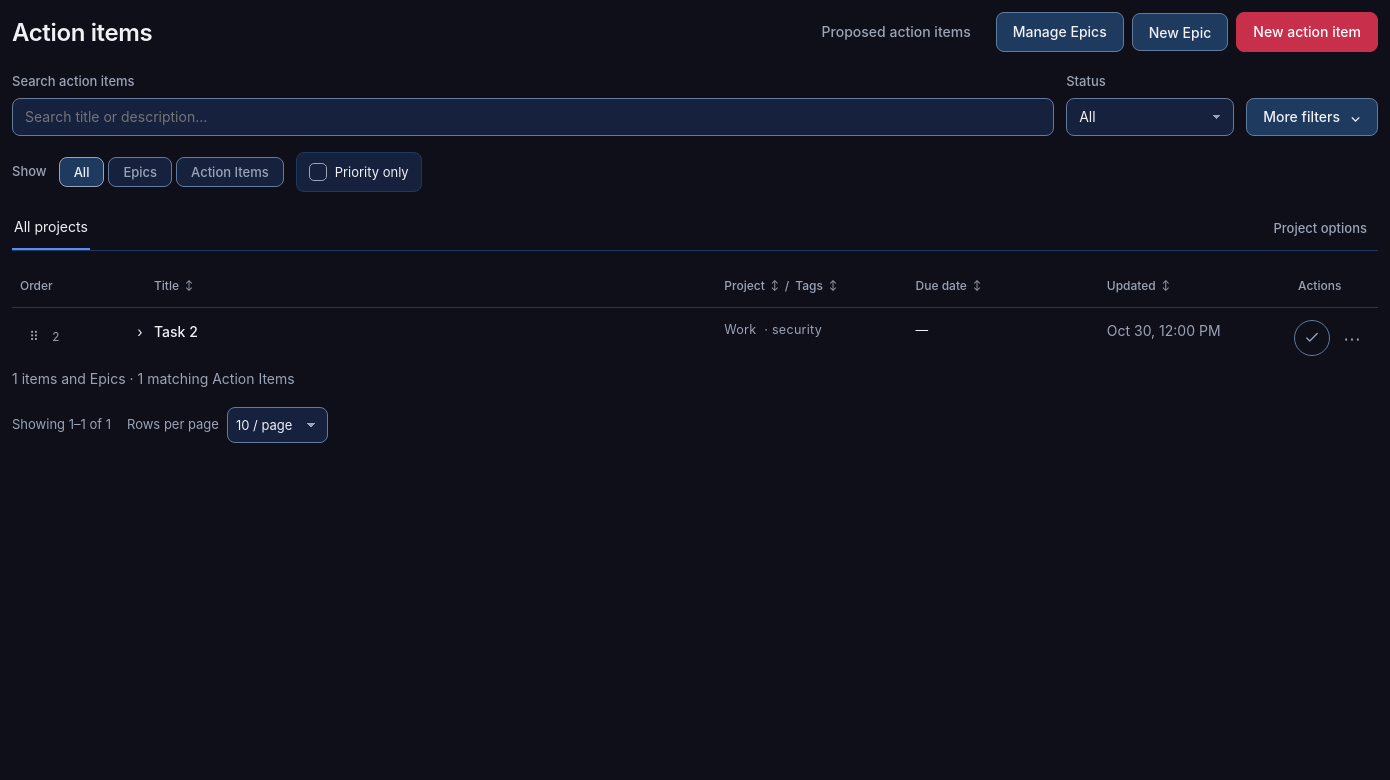
creating an Epic directly from a saved task › prefills and atomically groups a root open task without loading the catalog
Click the button named "More actions for Task 2".
click(1352, 338)  # box top-left (1334, 320), bottom-right (1370, 356)
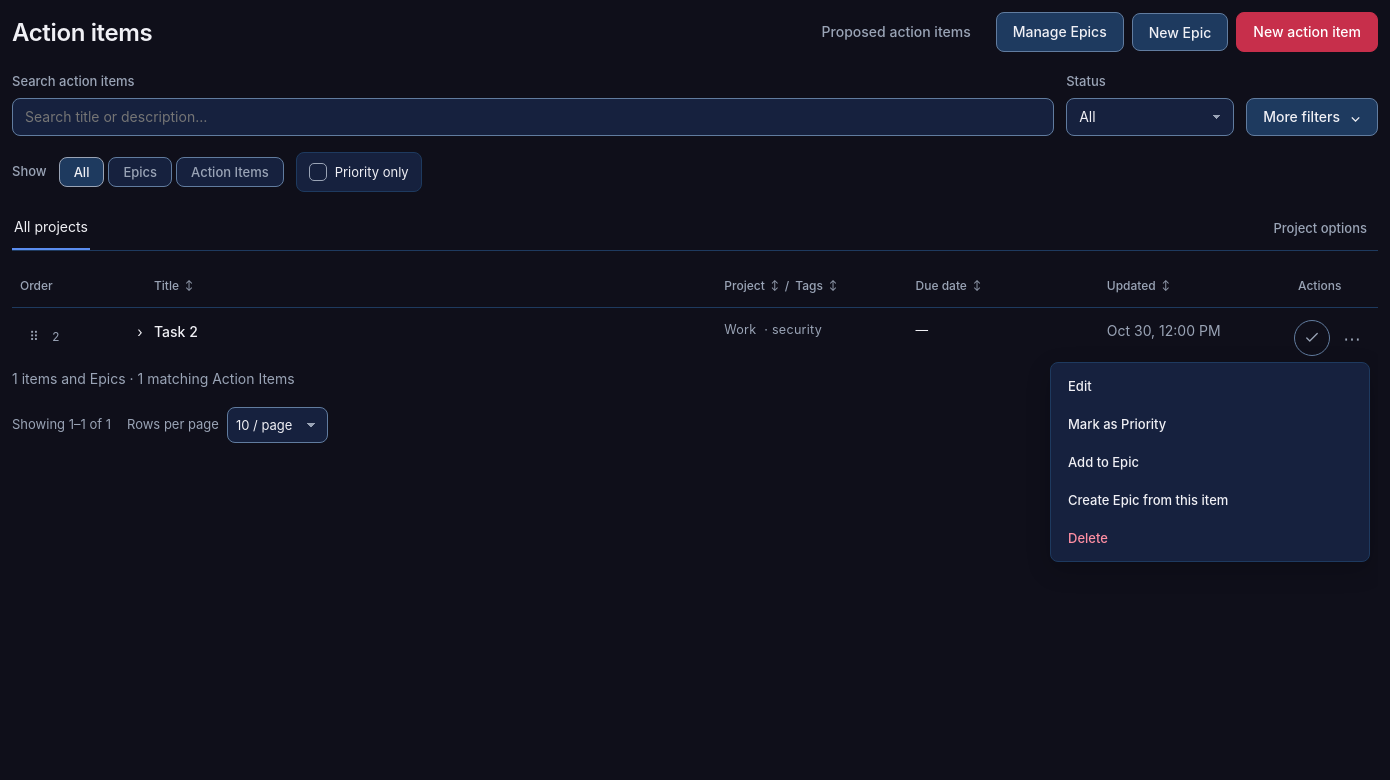
Click the button "Create Epic from this item".
click(1210, 500)  # box top-left (1057, 483), bottom-right (1363, 517)
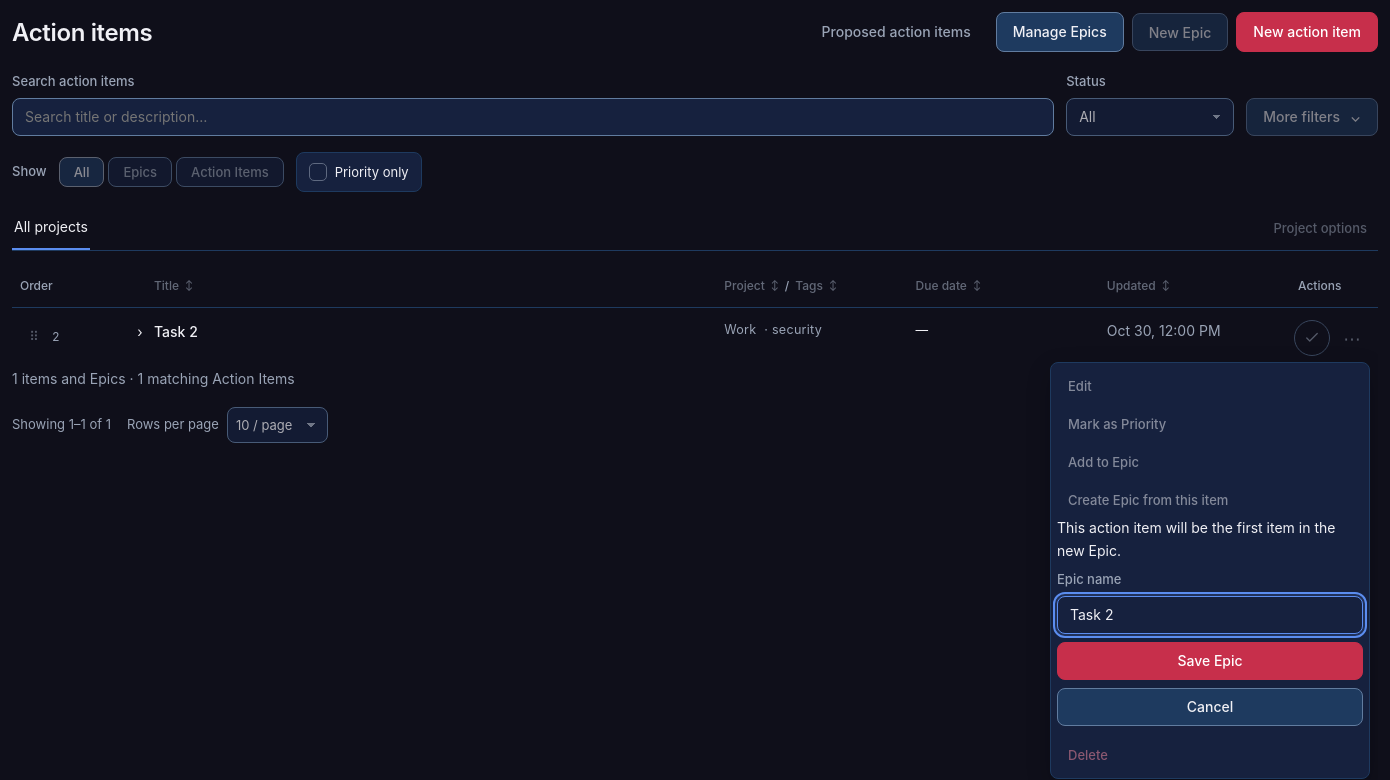
Expected: the field labelled "Epic name" holds "Task 2", top-left (1057, 596), bottom-right (1363, 634)
Click the button "Save Epic".
click(1210, 661)  # box top-left (1057, 642), bottom-right (1363, 680)
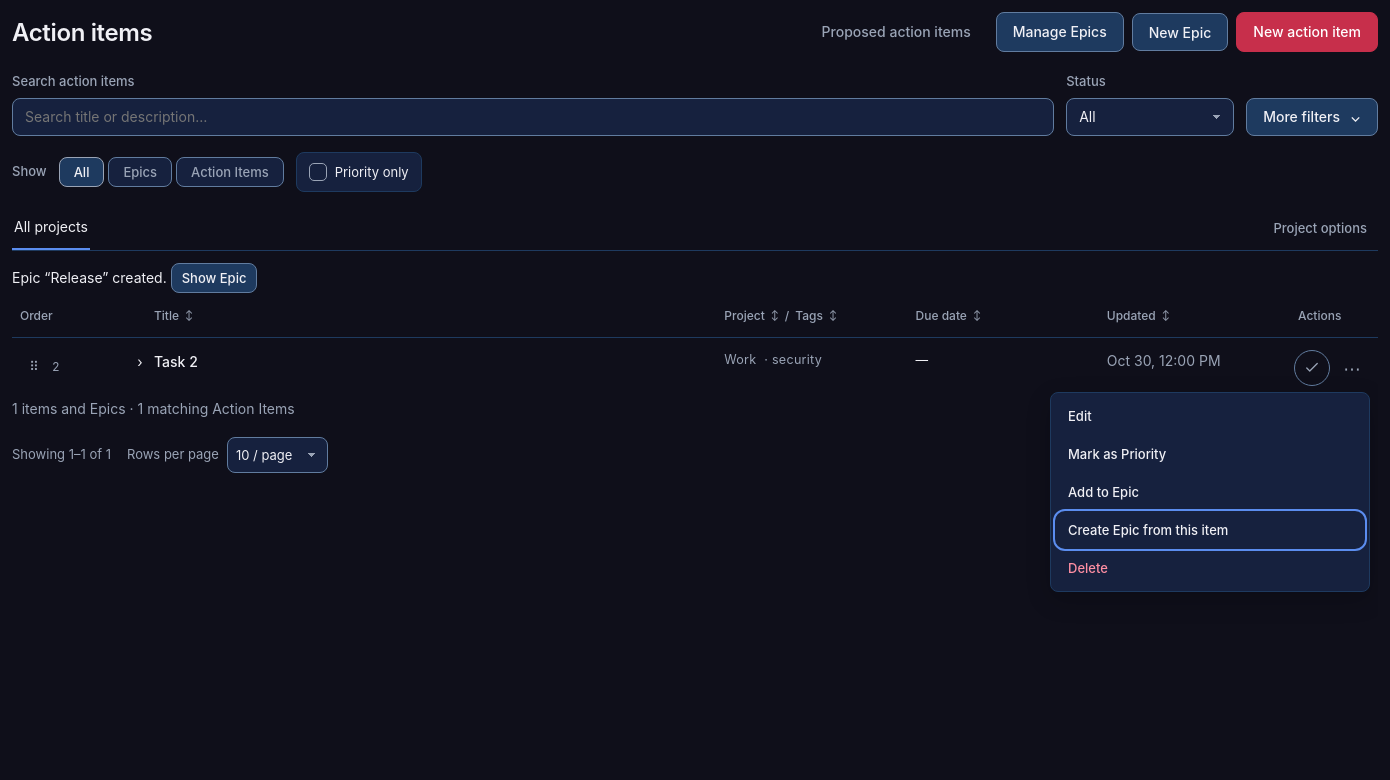
Expected: the text "Epic name" is gone
